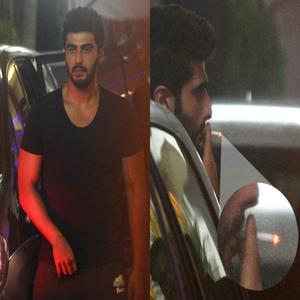cigarette: (236, 223, 279, 248), (200, 126, 228, 141)
